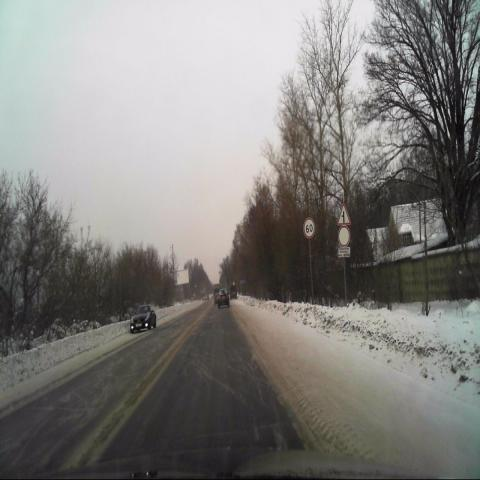2_3_3: (337, 202, 351, 225)
